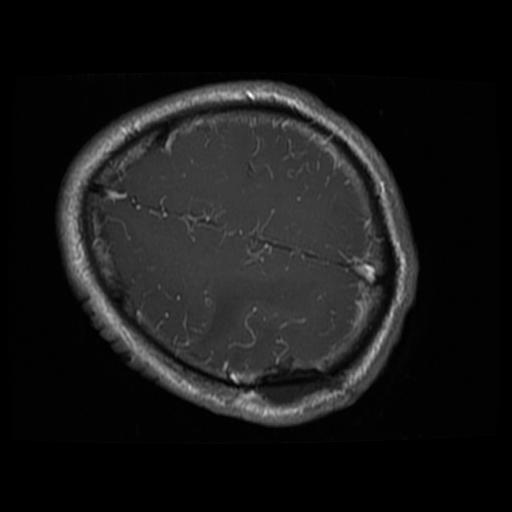glioma: (253, 361, 337, 407)
